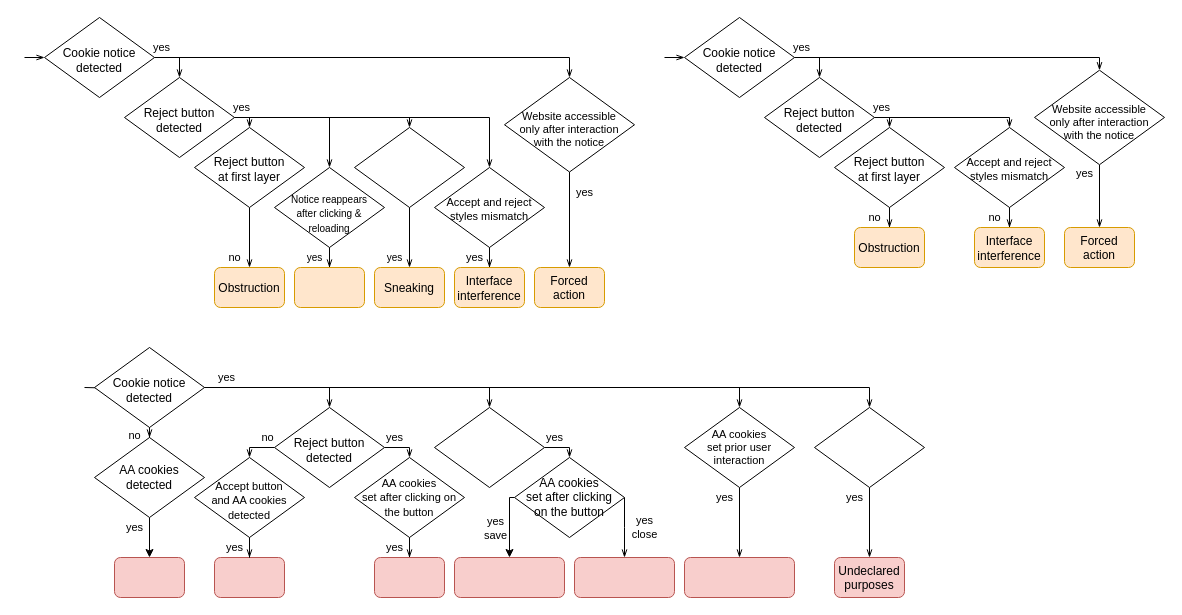
This 1182x615 diagram has some shape labels left out. Here are the shapes that lost their labels. From the top down, the centre of each, then its label:
At point (409, 167): "Notice contains ‘legitimate interest’".
At point (329, 287): "Nagging".
At point (489, 447): "Close/Save button detected".
At point (869, 447): "AA cookies set without purpose declaration".
At point (149, 577): "Missing notice".
At point (249, 577): "No reject button".
At point (409, 577): "Ignored reject".
At point (509, 577): "Ignored save/ Prefilled purposes".
At point (624, 577): "Implicit consent after close".
At point (739, 577): "Implicit consent prior to interaction".
